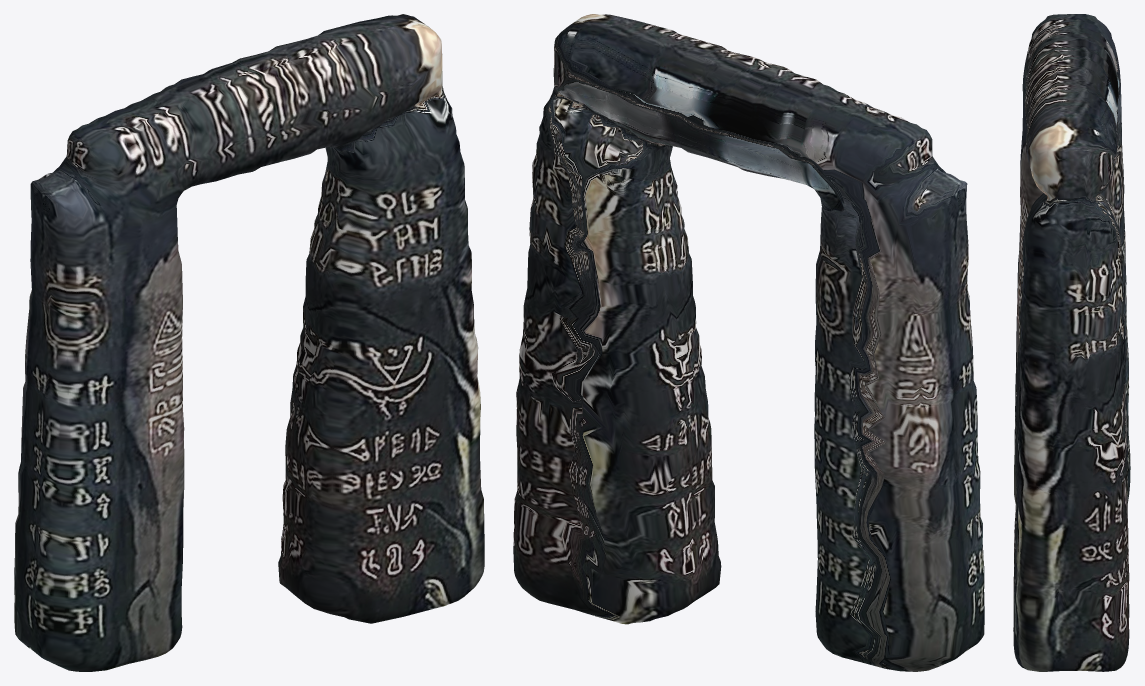
File: trilithon.glb
3 views of the same model, side by side, from view 1: azimuth 30°, elevation 25°; view 2: azimuth 150°, elevation 25°; view 3: azimuth 270°, elevation 25° (orthographic). The views are drawn at different scales.
Parts seen in each view (by area): view 1: trilithon; view 2: trilithon; view 3: trilithon.
Part boxes in pixels (bbox=[...]): trilithon: bbox=[14, 14, 484, 671]; trilithon: bbox=[513, 14, 984, 671]; trilithon: bbox=[1013, 14, 1130, 671].
Size of the model in its own units: 0.8123 by 0.9992 by 0.1979.
Materials: 1 (1 with a texture image).
